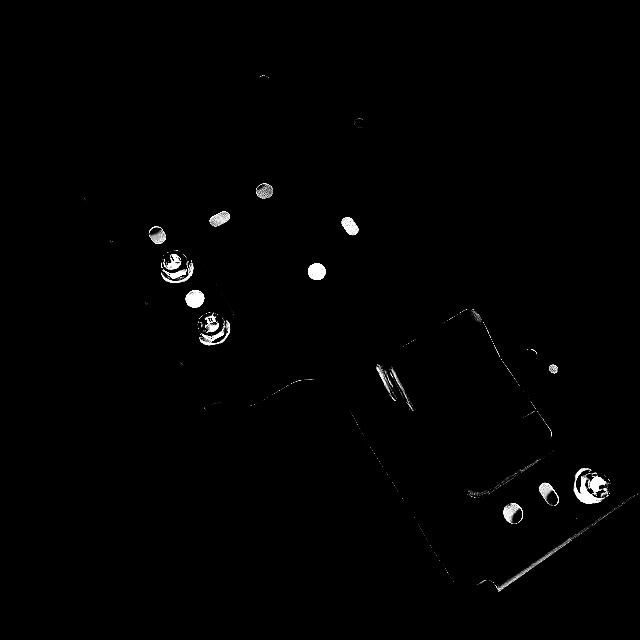dog: (572, 462, 612, 507), (195, 310, 232, 350), (157, 248, 193, 288)
